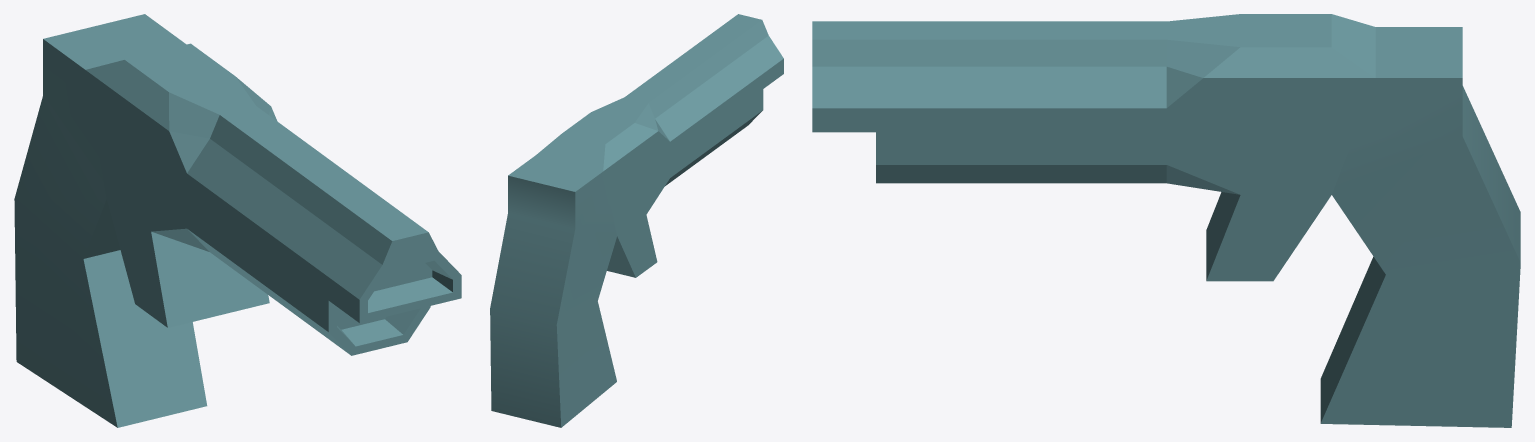
The model's file is S_Revolver.fbx.
3 views of the same model, side by side, from view 1: azimuth 30°, elevation 25°; view 2: azimuth 150°, elevation 25°; view 3: azimuth 270°, elevation 25° (orthographic). The views are drawn at different scales.
Parts seen in each view (by area): view 1: Revolver; view 2: Revolver; view 3: Revolver.
Part boxes in pixels (bbox=[...]): Revolver: bbox=[14, 14, 461, 427]; Revolver: bbox=[490, 14, 783, 427]; Revolver: bbox=[812, 14, 1520, 427].
Bounding box in the file's own units: 10.76 × 35.07 × 60.68.
